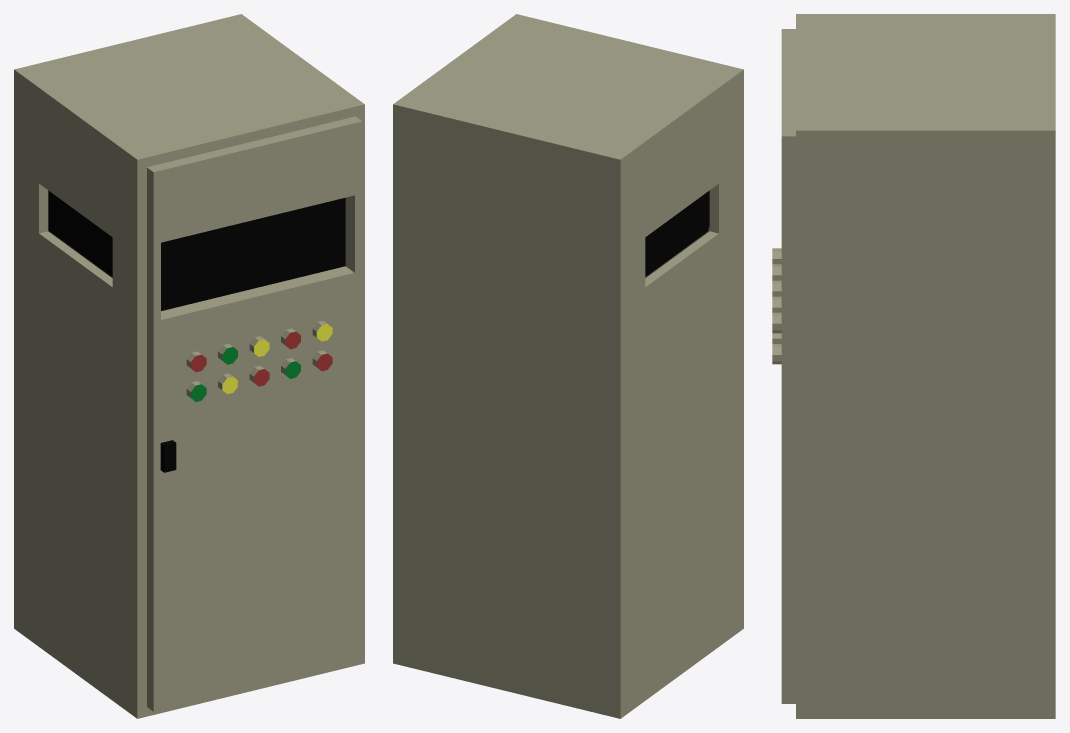
Rendered from panelController.fbx.
3 views of the same model, side by side, from view 1: azimuth 30°, elevation 25°; view 2: azimuth 150°, elevation 25°; view 3: azimuth 270°, elevation 25° (orthographic). The views are drawn at different scales.
Parts seen in each view (by area): view 1: Cube; view 2: Cube; view 3: Cube.
Boxes of the visible parts, bbox=[...] form: Cube: bbox=[14, 14, 364, 718]; Cube: bbox=[393, 14, 743, 718]; Cube: bbox=[772, 14, 1055, 718].
Bounding box in the file's own units: 85.13 × 200 × 87.21.
Materials: 1 (1 with a texture image).
